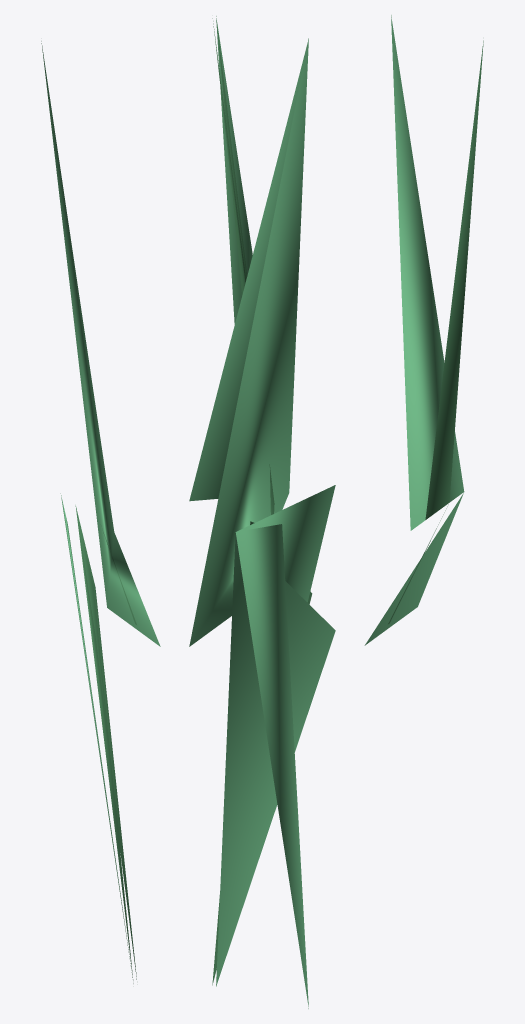
Rendered from equip_head_adamant_full_helm.glb.
3 views of the same model, side by side, from view 1: azimuth 30°, elevation 25°; view 2: azimuth 150°, elevation 25°; view 3: azimuth 330°, elevation 25° (orthographic).
Parts seen in each view (by area): view 1: equip_head_adamant_full_helm; view 2: equip_head_adamant_full_helm; view 3: equip_head_adamant_full_helm.
Boxes of the visible parts, x1,y1,x2,y2 form: equip_head_adamant_full_helm: [41, 41, 160, 983]; equip_head_adamant_full_helm: [189, 16, 335, 1008]; equip_head_adamant_full_helm: [364, 15, 483, 645].
Bounding box in the file's own units: 0.208 × 2 × 0.208.
